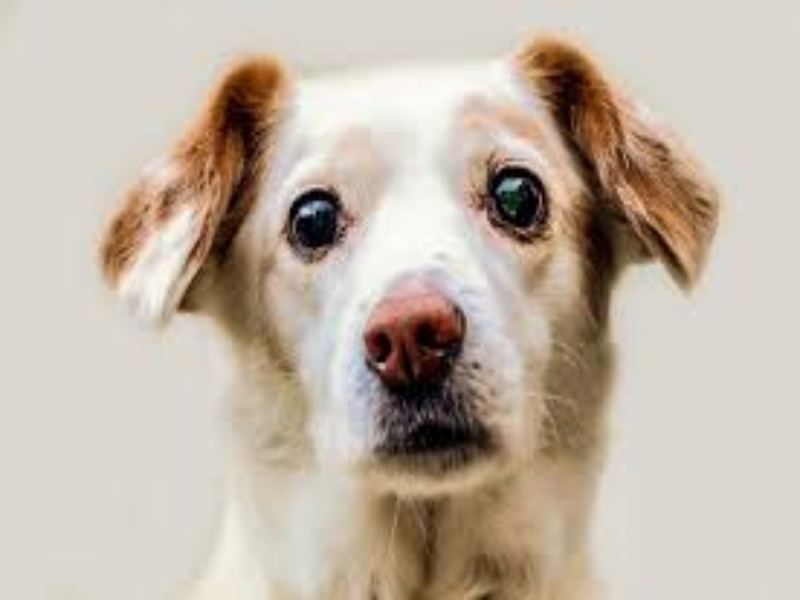dog: (96, 30, 729, 600)
